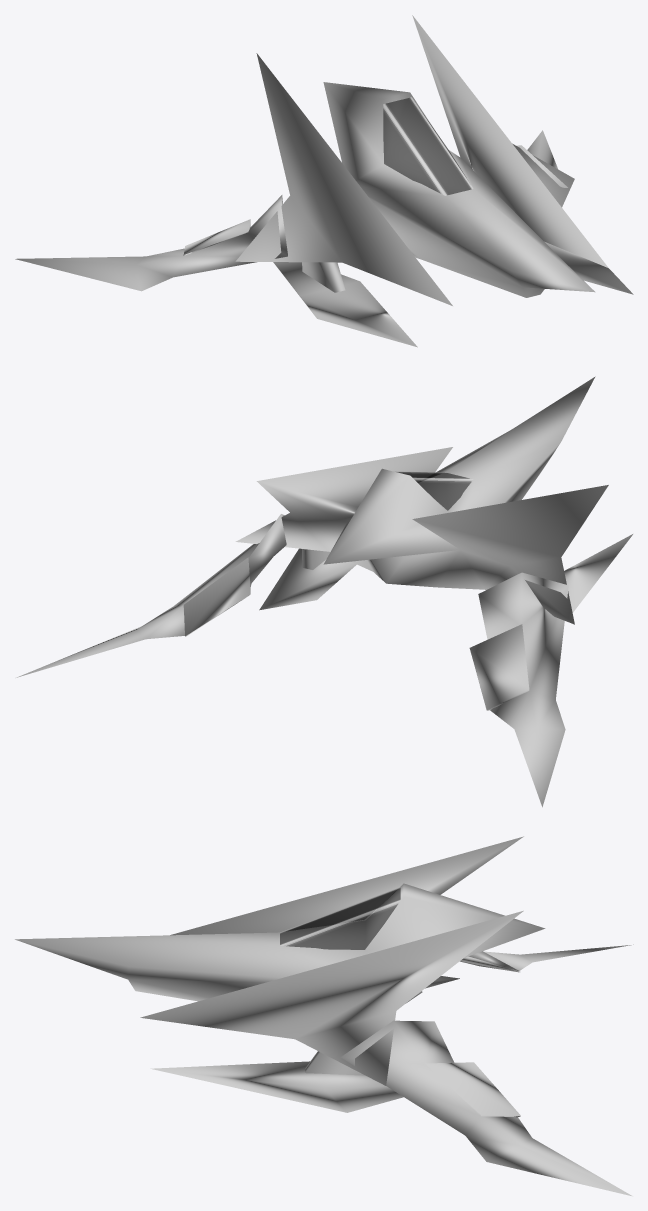
Rendered from arwingNew56.obj.
3 views of the same model, one above another, from view 1: azimuth 30°, elevation 25°; view 2: azimuth 150°, elevation 25°; view 3: azimuth 270°, elevation 25° (orthographic). The views are drawn at different scales.
Visible parts, largest first — view 1: Arwing.002; view 2: Arwing.002; view 3: Arwing.002.
Part boxes in pixels (<box>): Arwing.002: <box>15,15,633,347</box>; Arwing.002: <box>16,376,632,807</box>; Arwing.002: <box>15,836,633,1196</box>.
Size of the model in its own units: 5.88 by 2.15 by 6.12.
